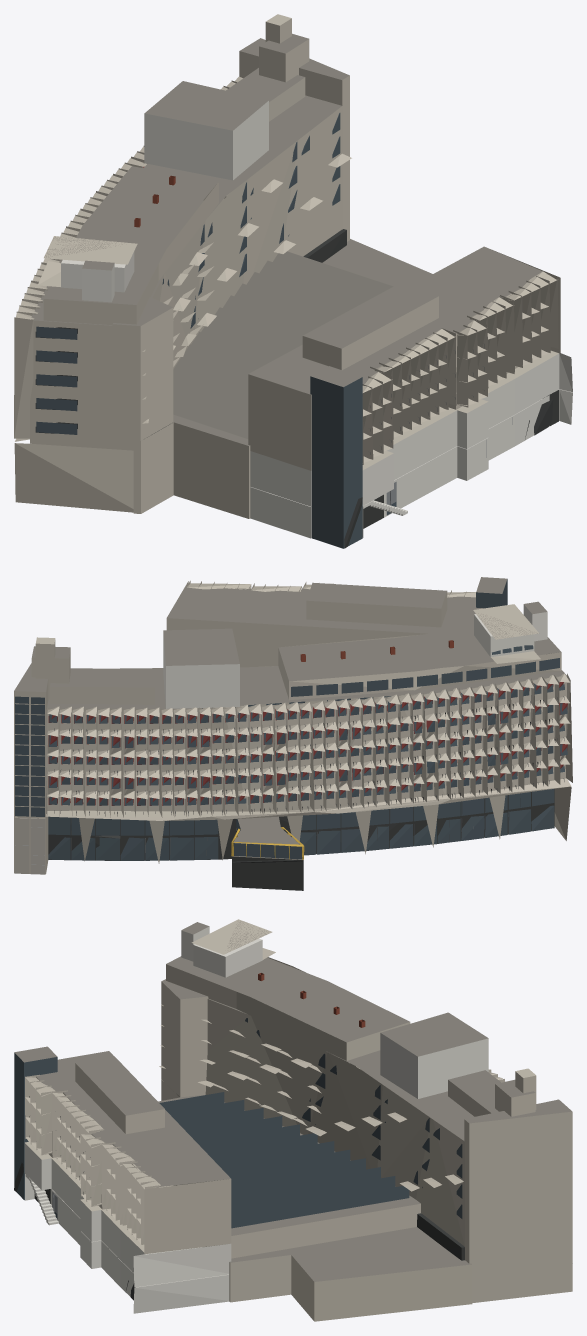
File: autopon.lod1.glb
3 views of the same model, one above another, from view 1: azimuth 30°, elevation 25°; view 2: azimuth 150°, elevation 25°; view 3: azimuth 270°, elevation 25° (orthographic). The views are drawn at different scales.
Visible parts, largest first — view 1: autopon; view 2: autopon; view 3: autopon.
Part boxes in pixels (left/top/right/bottom): autopon: left=14, top=14, right=572, bottom=548; autopon: left=14, top=577, right=572, bottom=890; autopon: left=14, top=919, right=572, bottom=1321.
Size of the model in its own units: 70.01 by 32.4 by 76.53.
